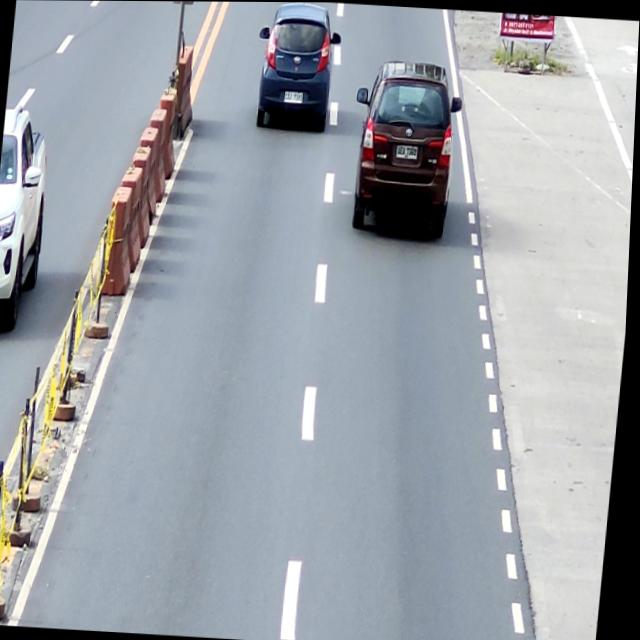Car: (345, 57, 467, 238), (0, 86, 57, 332), (251, 1, 345, 132)
License-Plate: (395, 142, 421, 162), (283, 89, 305, 105)
